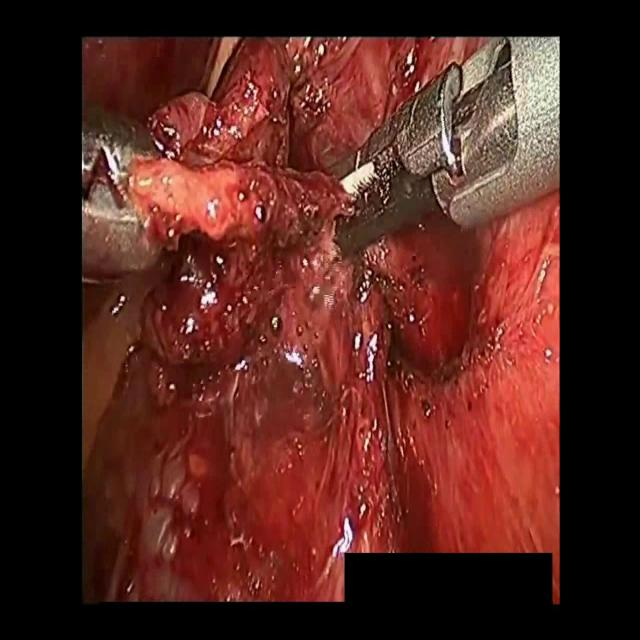surgical-area: (81, 36, 559, 604)
surgical-tool: (330, 36, 560, 255), (80, 96, 170, 284)
